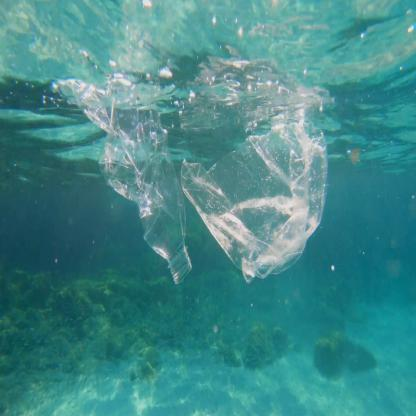Rác: (79, 71, 197, 297), (181, 125, 344, 288)
